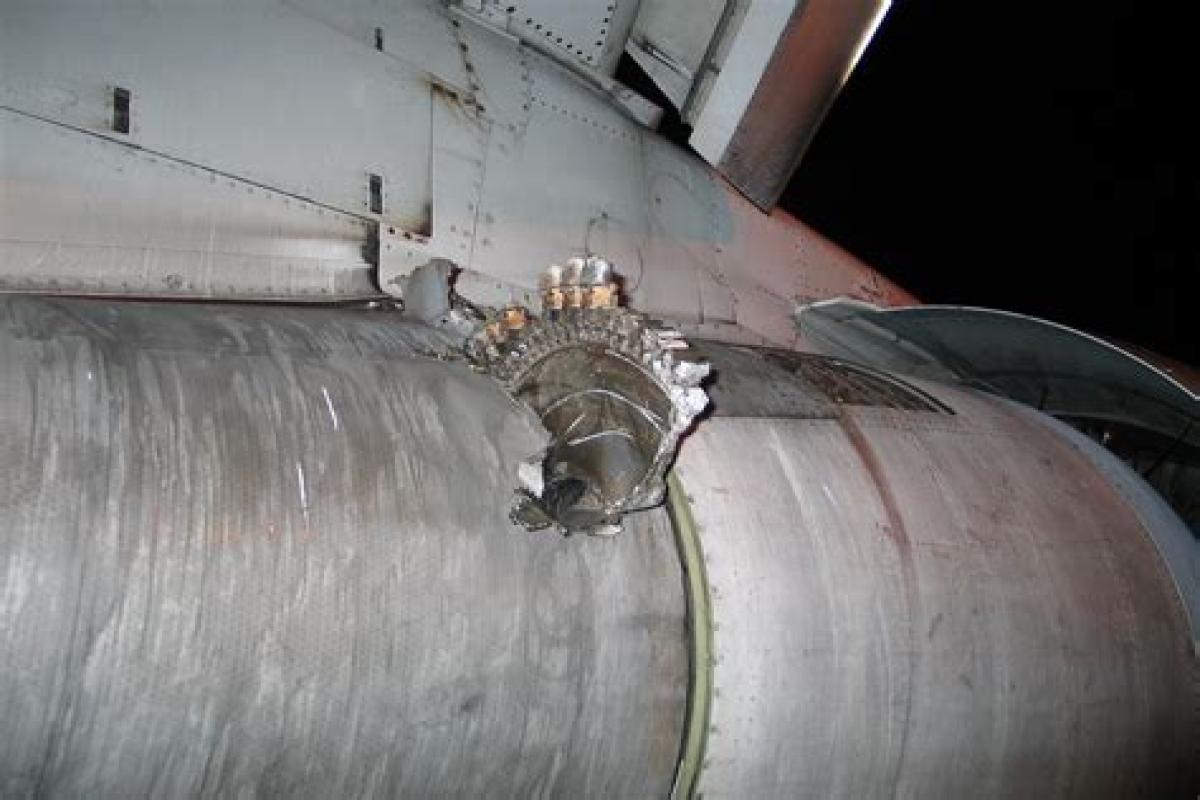Fuselage_damage: (366, 211, 780, 560)
